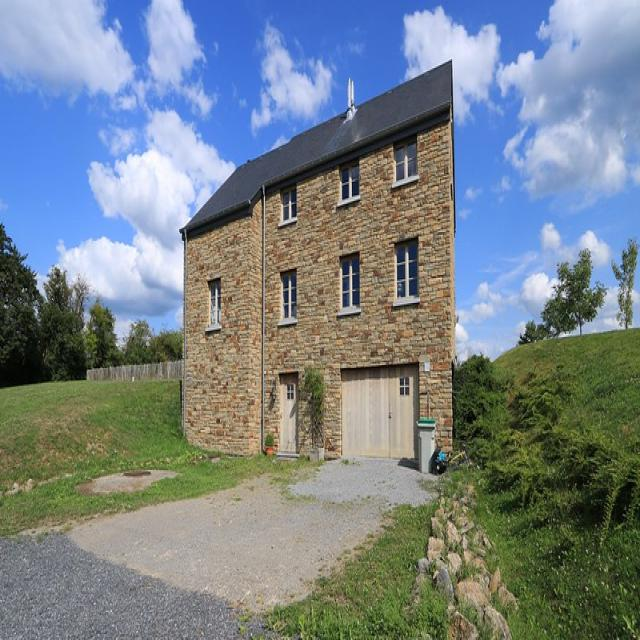Normal_building: (178, 51, 457, 478)
